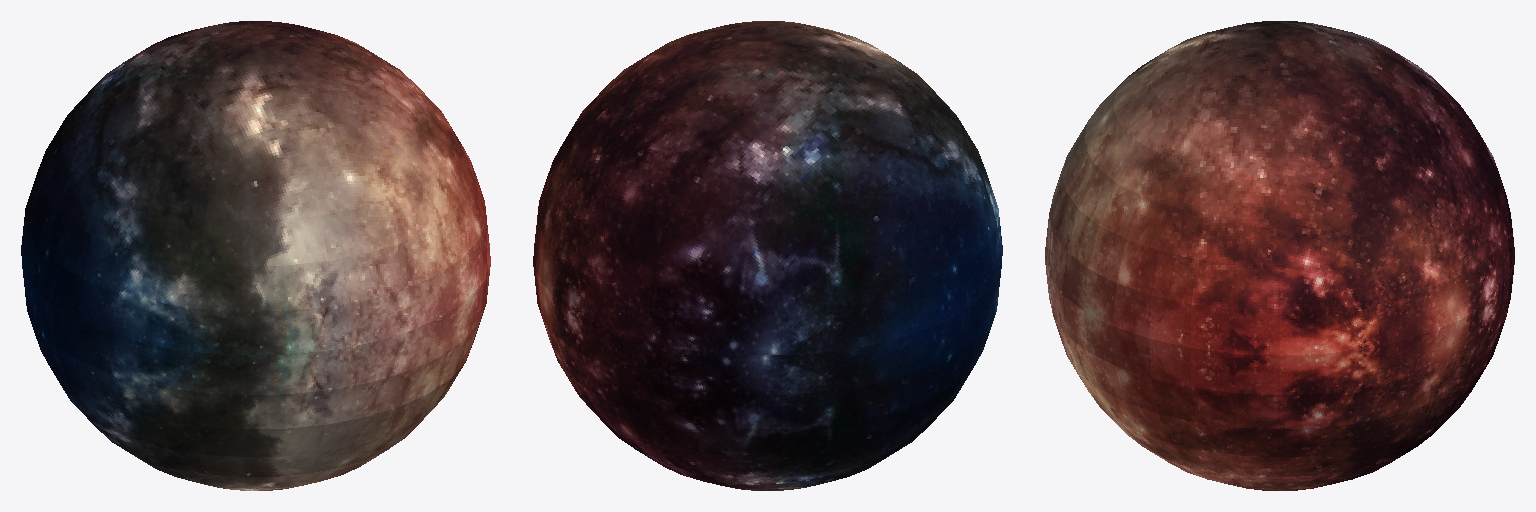
The picture shows the model from 3 angles: view 1: azimuth 30°, elevation 25°; view 2: azimuth 150°, elevation 25°; view 3: azimuth 270°, elevation 25°; orthographic projection.
Parts seen in each view (by area): view 1: Icosphere; view 2: Icosphere; view 3: Icosphere.
Part boxes in pixels (x1,y1,x2,y2): Icosphere: (21, 21, 490, 490); Icosphere: (533, 21, 1002, 490); Icosphere: (1045, 21, 1514, 490).
Size of the model in its own units: 0.504 by 0.504 by 0.504.
Materials: 1 (1 with a texture image).